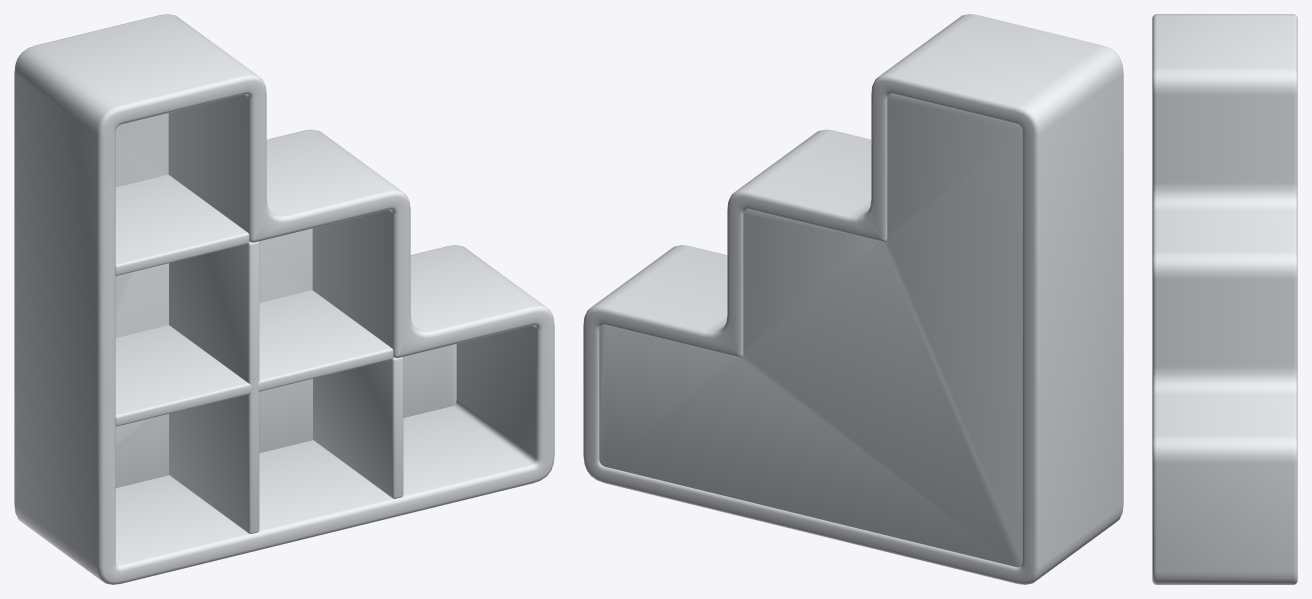
Rendered from estante_escada_branca.glb.
3 views of the same model, side by side, from view 1: azimuth 30°, elevation 25°; view 2: azimuth 150°, elevation 25°; view 3: azimuth 270°, elevation 25° (orthographic). The views are drawn at different scales.
Visible parts, largest first — view 1: estante_escada_branca; view 2: estante_escada_branca; view 3: estante_escada_branca.
Boxes of the visible parts, x1,y1,x2,y2 form: estante_escada_branca: [14, 14, 554, 584]; estante_escada_branca: [583, 14, 1123, 584]; estante_escada_branca: [1152, 14, 1297, 584].
Bounding box in the file's own units: 1.03 × 1.03 × 0.34.
1 material, 1 textured.
